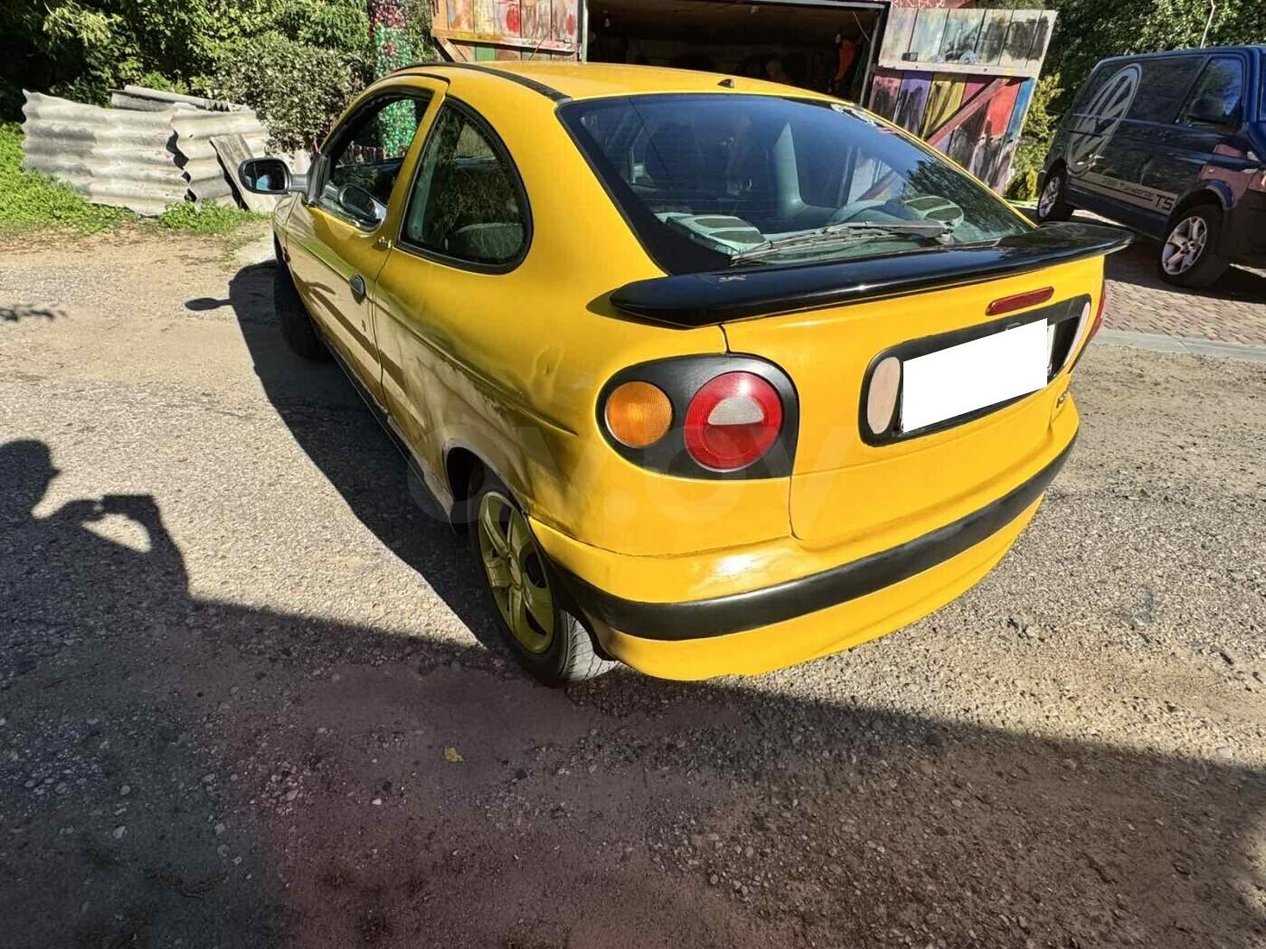Megane_1995-1999: (240, 45, 1136, 702)
